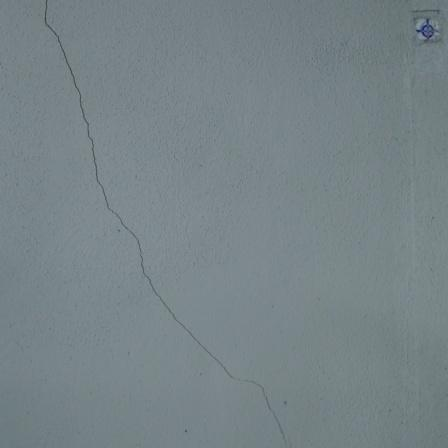crack: (0, 0, 299, 448)
